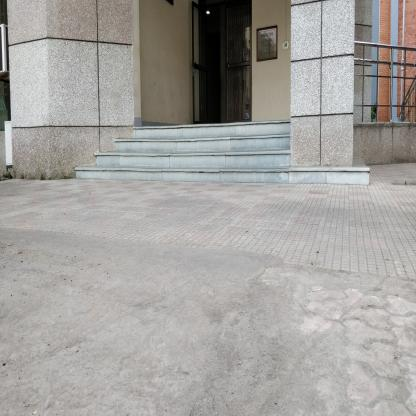stairs: (134, 124, 289, 192)
